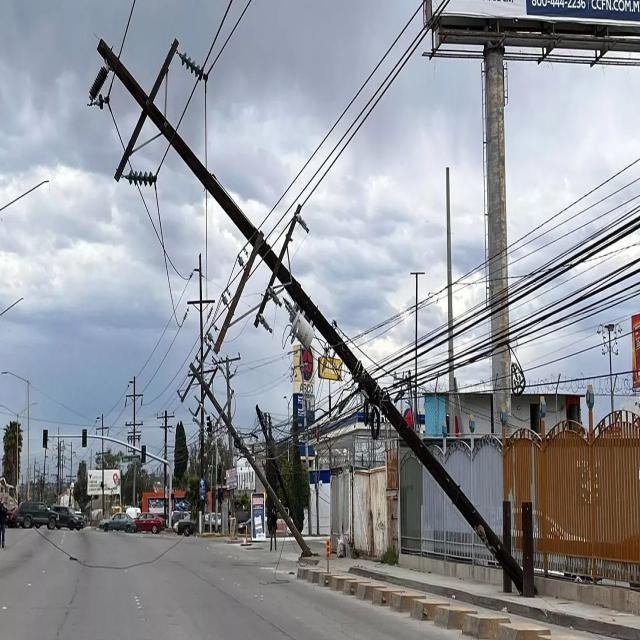Inclined Pole: (89, 32, 545, 597)
